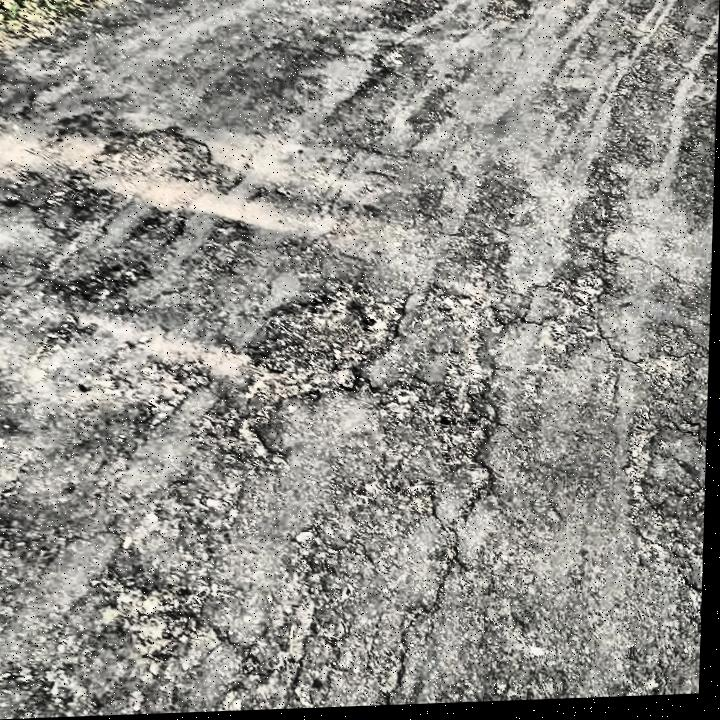pothole: (238, 284, 394, 408), (91, 125, 216, 187), (480, 0, 535, 30)
